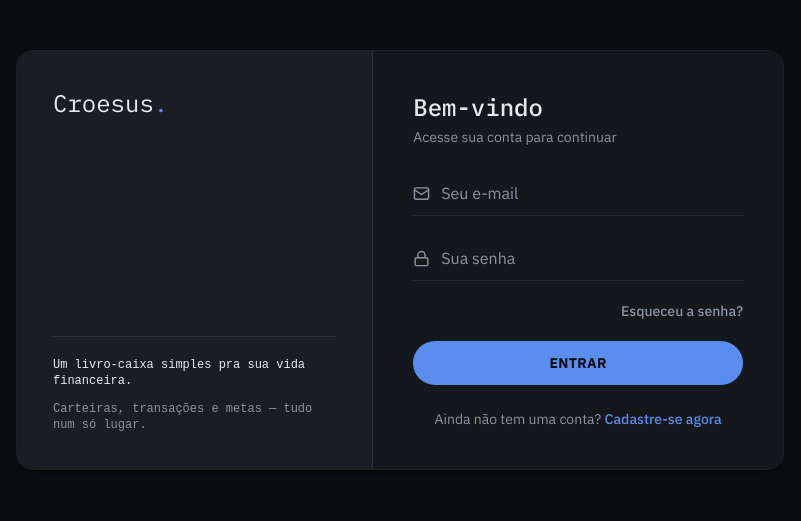
LoginPage › shows an error message when signIn rejects
Type "john@example.com" into the field with placeholder "Seu e-mail".
click(578, 194); type("john@example.com")  # box [413,171,743,216]
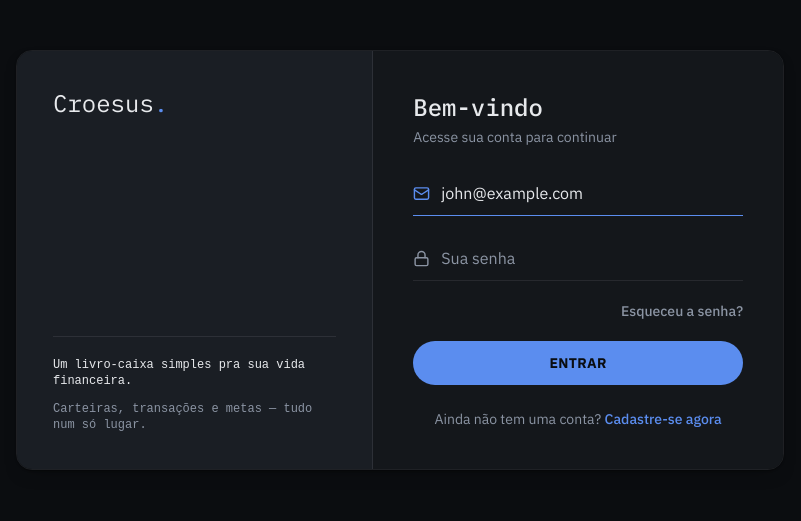
Type "wrong-pass" into the password field with placeholder "Sua senha".
click(578, 258); type("wrong-pass")  # box [413,236,743,281]
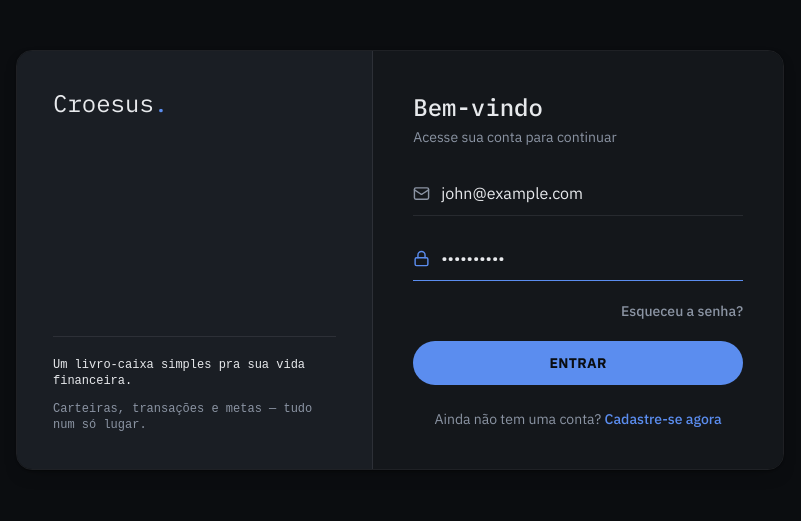
Click the button "Entrar".
click(578, 363)  # box [413,341,743,385]
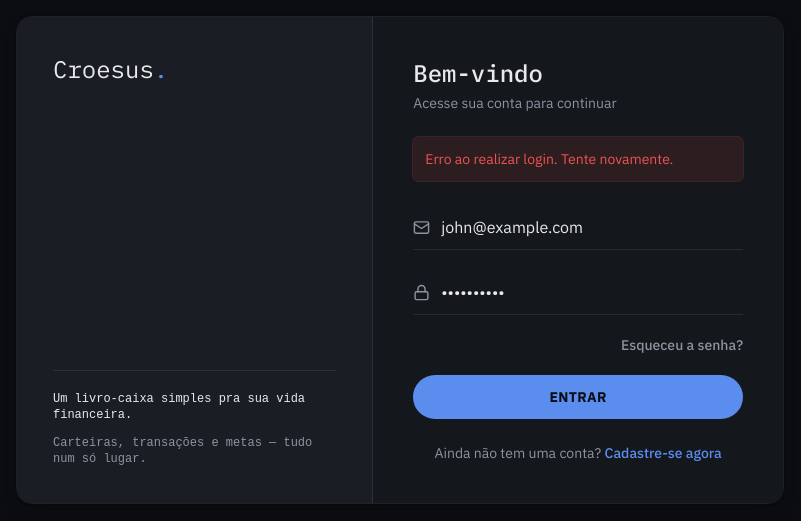
Now the text "Erro ao realizar login. Tente novamente." is shown, box [413,137,743,181]
